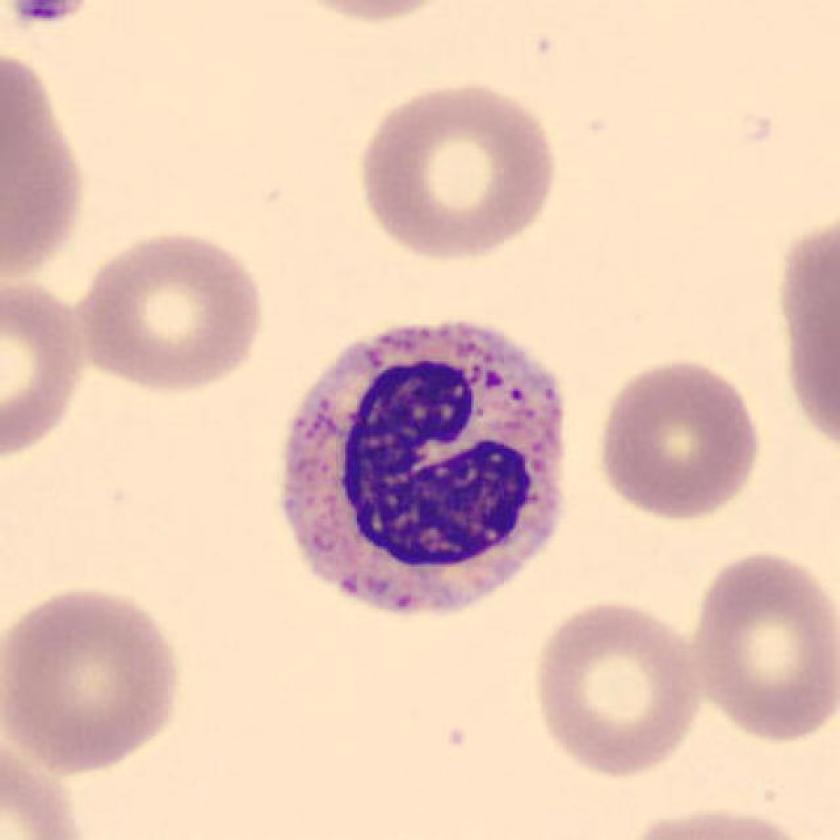neutrophil: (279, 324, 567, 615)
